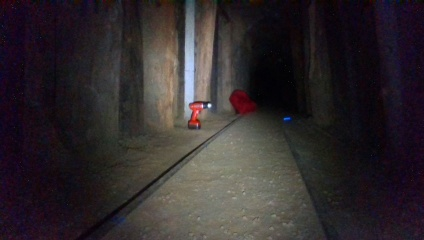backpack: (228, 87, 256, 115)
drill: (185, 99, 215, 131)
